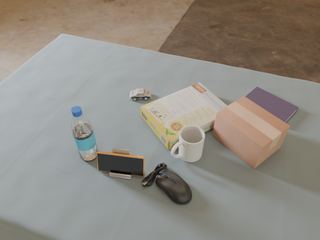book: (245, 87, 298, 123)
bottle: (71, 106, 98, 161)
box: (141, 83, 227, 150), (212, 96, 290, 169)
cup: (171, 125, 205, 162)
mouse: (142, 163, 192, 204)
phone: (97, 151, 145, 176)
toy_car: (130, 89, 151, 101)
